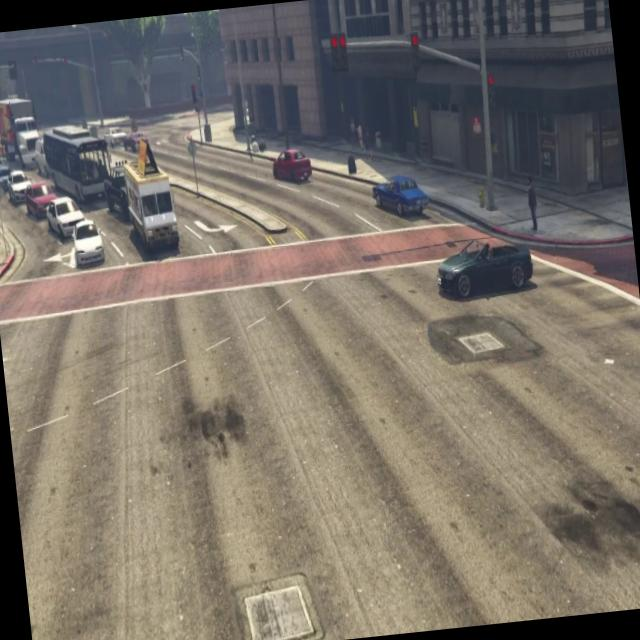Red-Signal: (320, 17, 358, 90), (480, 54, 504, 113), (405, 19, 429, 77)
